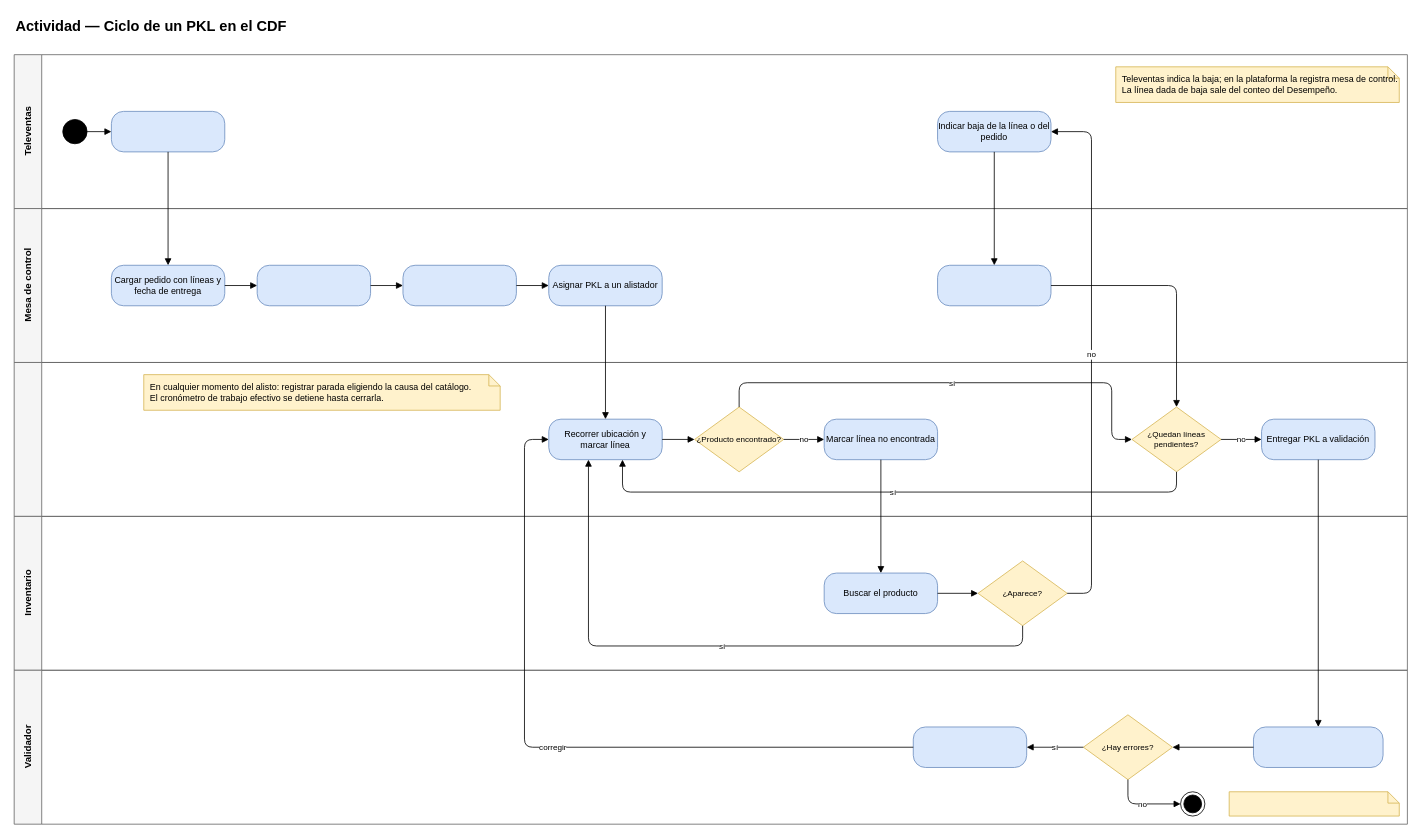
This 1422x838 diagram has some shape labels left out. Each missing label, with the box of its shape:
Alistador: (13, 362, 1407, 516)
Armar PKL agrupando pedidos: (402, 264, 516, 306)
Asignar zona de despacho y de inventario: (256, 264, 371, 306)
Despacho y rutas quedan fuera de la plataforma.: (1228, 791, 1399, 816)
Liberar pedido al almacén: (111, 111, 225, 152)
Registrar errores: (912, 726, 1027, 767)
Registrar la baja en la plataforma: (937, 264, 1051, 306)
Revisar golpes, código, lote, vencimiento y cantidad: (1253, 726, 1383, 767)
